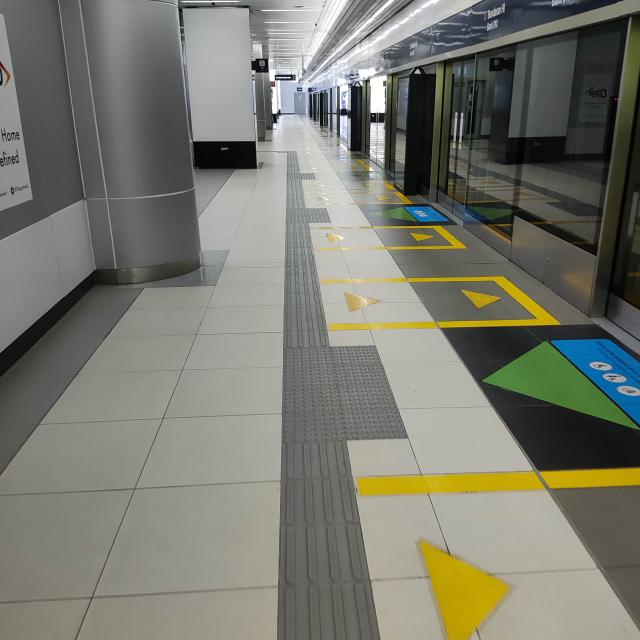lurus: (271, 175, 369, 640)
